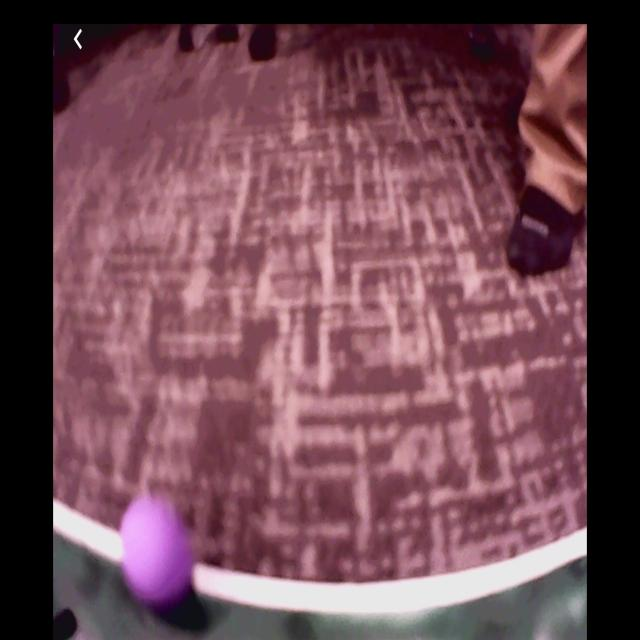ball: (124, 499, 194, 602)
